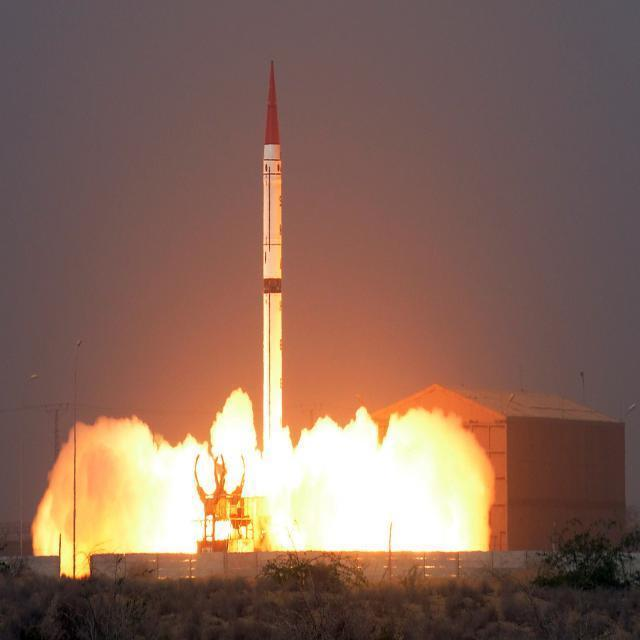missile: (255, 40, 288, 490)
